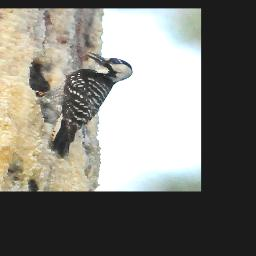Woodpecker: (36, 52, 135, 158)
